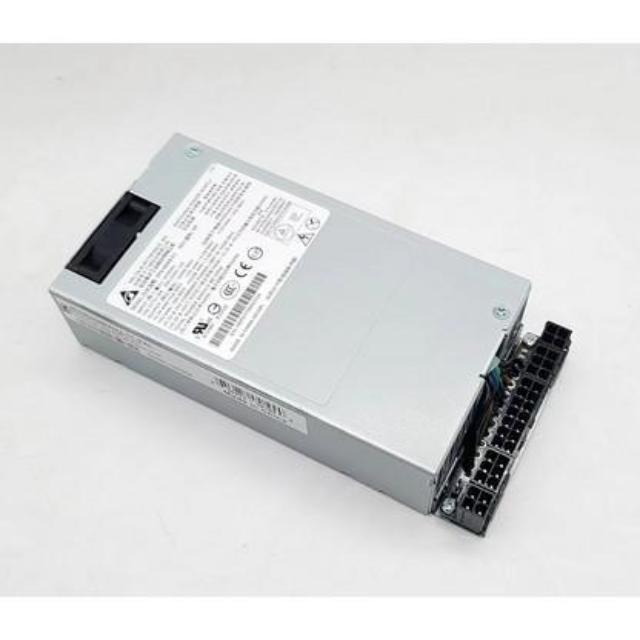PSU: (42, 127, 580, 544)
